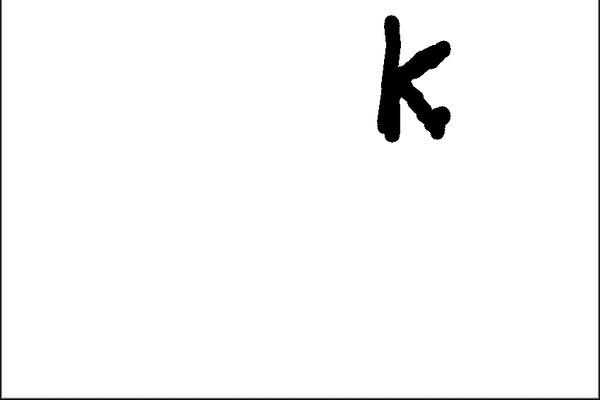K: (367, 8, 456, 151)
